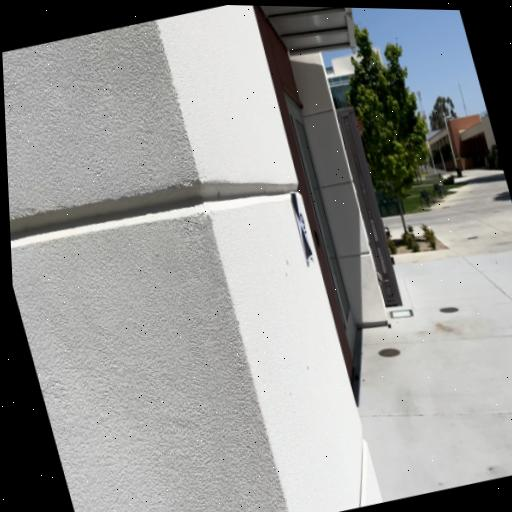target9: (291, 192, 314, 264)
